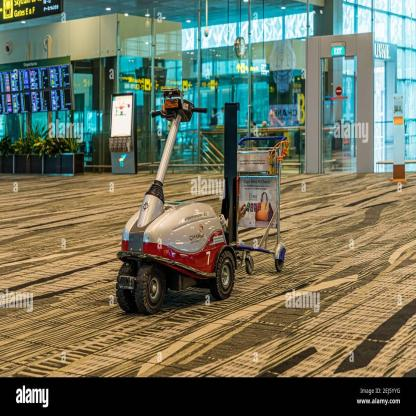airport-trolley: (225, 134, 290, 274)
